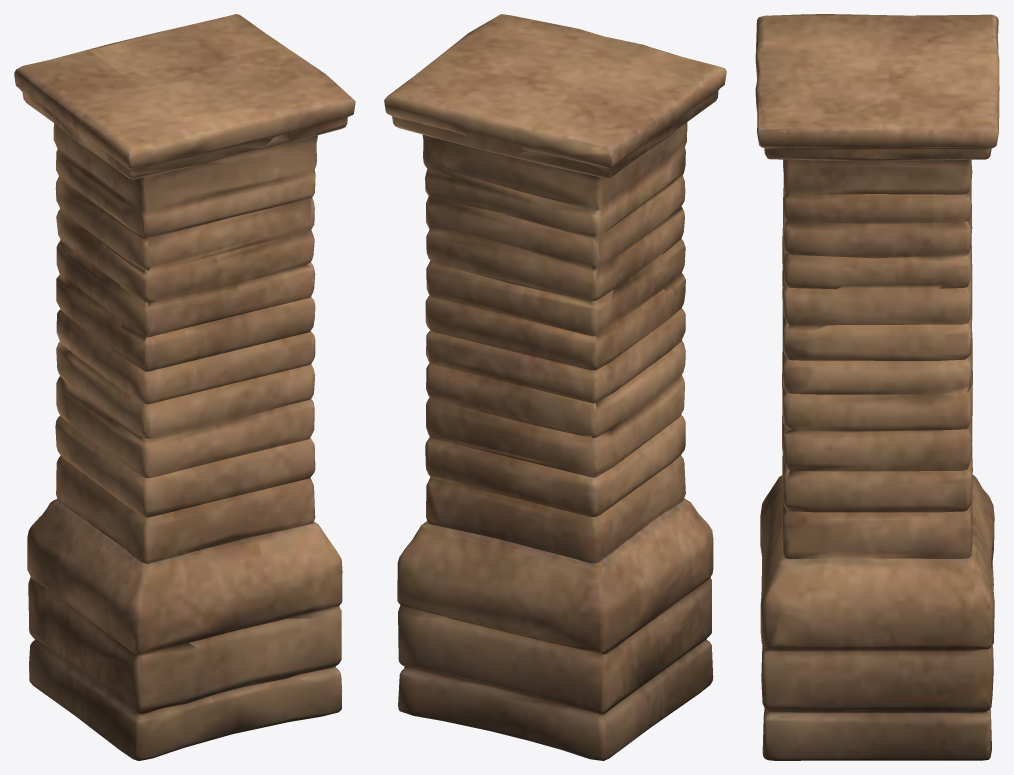
File: weathered-sandstone-chimney-stack-v001.glb
The picture shows the model from 3 angles, left to right: view 1: azimuth 30°, elevation 25°; view 2: azimuth 150°, elevation 25°; view 3: azimuth 270°, elevation 25°; orthographic projection. The views are drawn at different scales.
Visible parts, largest first — view 1: weathered-sandstone-chimney-stack; view 2: weathered-sandstone-chimney-stack; view 3: weathered-sandstone-chimney-stack.
Boxes of the visible parts, <box> form: weathered-sandstone-chimney-stack: <box>14,14,355,760</box>; weathered-sandstone-chimney-stack: <box>384,14,726,760</box>; weathered-sandstone-chimney-stack: <box>755,14,999,760</box>.
Bounding box in the file's own units: 0.6093 × 1.57 × 0.5405.
1 material, 1 textured.
